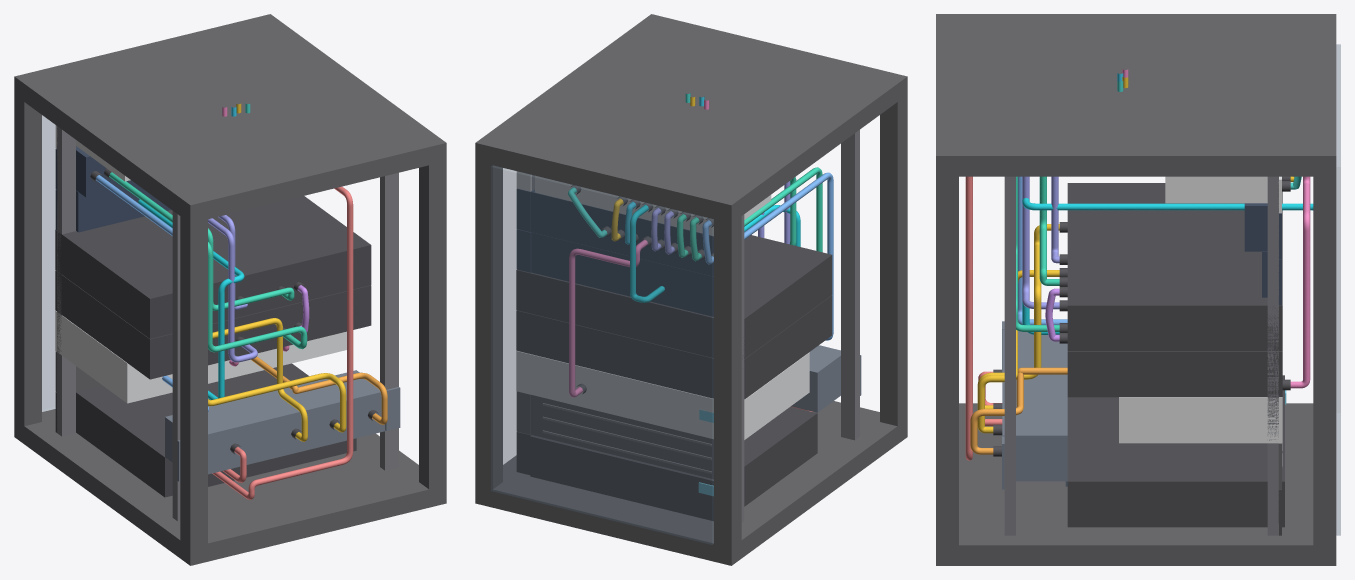
The model's file is rack-scene.glb.
3 views of the same model, side by side, from view 1: azimuth 30°, elevation 25°; view 2: azimuth 150°, elevation 25°; view 3: azimuth 270°, elevation 25° (orthographic). The views are drawn at different scales.
Visible parts, largest first — view 1: RackRoofFrame, RackBaseFrame, Device_carrier-u5, RackCornerPost_RL, Device_pdu-u2-rear, Device_ups-u1, RackCornerPost_RR, Device_carrier-u4, RackCornerPost_FL, Device_carrier-u3, RackRail_RR, RackGlassFrontDoorMesh (+14 smaller); view 2: RackGlassFrontDoorMesh, RackRoofFrame, RackBaseFrame, Device_carrier-u5, Device_ups-u1, Device_carrier-u4, Device_carrier-u3, RackCornerPost_FL, RackCornerPost_FR, RackCornerPost_RL, Device_brush-u6, Device_cover-u2 (+13 smaller); view 3: RackRoofFrame, Device_carrier-u5, RackBaseFrame, Device_ups-u1, RackCornerPost_FR, Device_carrier-u4, RackCornerPost_RR, Device_carrier-u3, Device_pdu-u2-rear, RackRail_RR, RackRail_FR, Device_sw-u8 (+13 smaller).
Part boxes in pixels (x1,y1,x2,y2): RackRoofFrame: [14, 14, 446, 223]; RackBaseFrame: [14, 409, 446, 565]; Device_carrier-u5: [55, 196, 371, 338]; RackCornerPost_RL: [180, 193, 207, 565]; Device_pdu-u2-rear: [165, 370, 385, 474]; Device_ups-u1: [76, 363, 356, 497]; RackCornerPost_RR: [419, 135, 446, 503]; Device_carrier-u4: [55, 270, 371, 379]; RackCornerPost_FL: [14, 74, 41, 443]; Device_carrier-u3: [55, 310, 346, 403]; RackRail_RR: [380, 172, 398, 470]; RackGlassFrontDoorMesh: [42, 115, 55, 411]; RackGlassFrontDoorMesh: [491, 165, 713, 544]; RackRoofFrame: [475, 14, 907, 222]; RackBaseFrame: [475, 401, 907, 565]; Device_carrier-u5: [516, 235, 832, 358]; Device_ups-u1: [530, 406, 817, 521]; Device_carrier-u4: [516, 295, 832, 399]; Device_carrier-u3: [516, 351, 809, 439]; RackCornerPost_FL: [714, 193, 741, 565]; RackCornerPost_FR: [475, 135, 502, 504]; RackCornerPost_RL: [880, 76, 907, 443]; Device_brush-u6: [531, 232, 713, 316]; Device_cover-u2: [531, 395, 713, 479]; RackRoofFrame: [936, 14, 1336, 176]; Device_carrier-u5: [1067, 183, 1282, 351]; RackBaseFrame: [936, 403, 1336, 565]; Device_ups-u1: [1067, 375, 1284, 527]; RackCornerPost_FR: [1313, 146, 1336, 565]; Device_carrier-u4: [1067, 351, 1282, 397]; RackCornerPost_RR: [936, 146, 958, 565]; Device_carrier-u3: [1119, 397, 1282, 443]; Device_pdu-u2-rear: [1002, 329, 1067, 481]; RackRail_RR: [1004, 176, 1015, 535]; RackRail_FR: [1267, 176, 1278, 535]; Device_sw-u8: [1165, 176, 1267, 203].
Bounding box in the file's own units: 0.294 × 0.4056 × 0.354.
